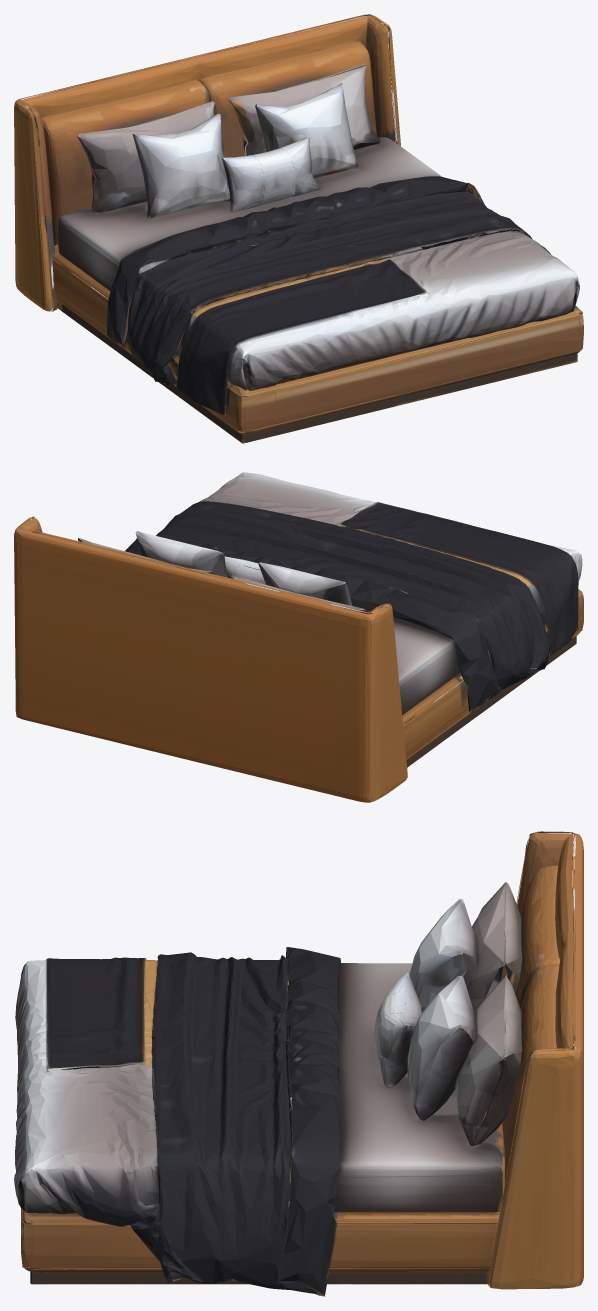
The model's file is edited_mesh.glb.
3 views of the same model, one above another, from view 1: azimuth 30°, elevation 25°; view 2: azimuth 150°, elevation 25°; view 3: azimuth 270°, elevation 25° (orthographic). The views are drawn at different scales.
Visible parts, largest first — view 1: solid_001_wire; view 2: solid_001_wire; view 3: solid_001_wire.
Part boxes in pixels (x1,y1,x2,y2): solid_001_wire: (14,14,583,443); solid_001_wire: (14,472,583,802); solid_001_wire: (14,831,583,1296).
Bounding box in the file's own units: 2 × 0.9449 × 1.97.
1 material, 1 textured.
